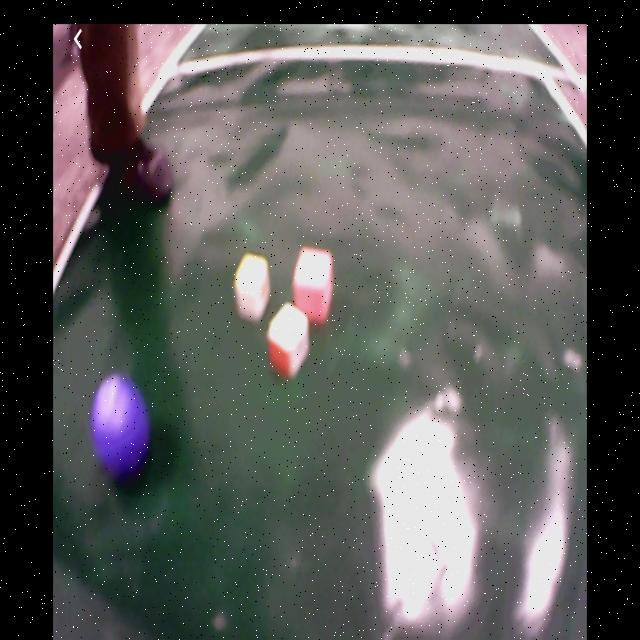ball: (92, 378, 153, 472)
